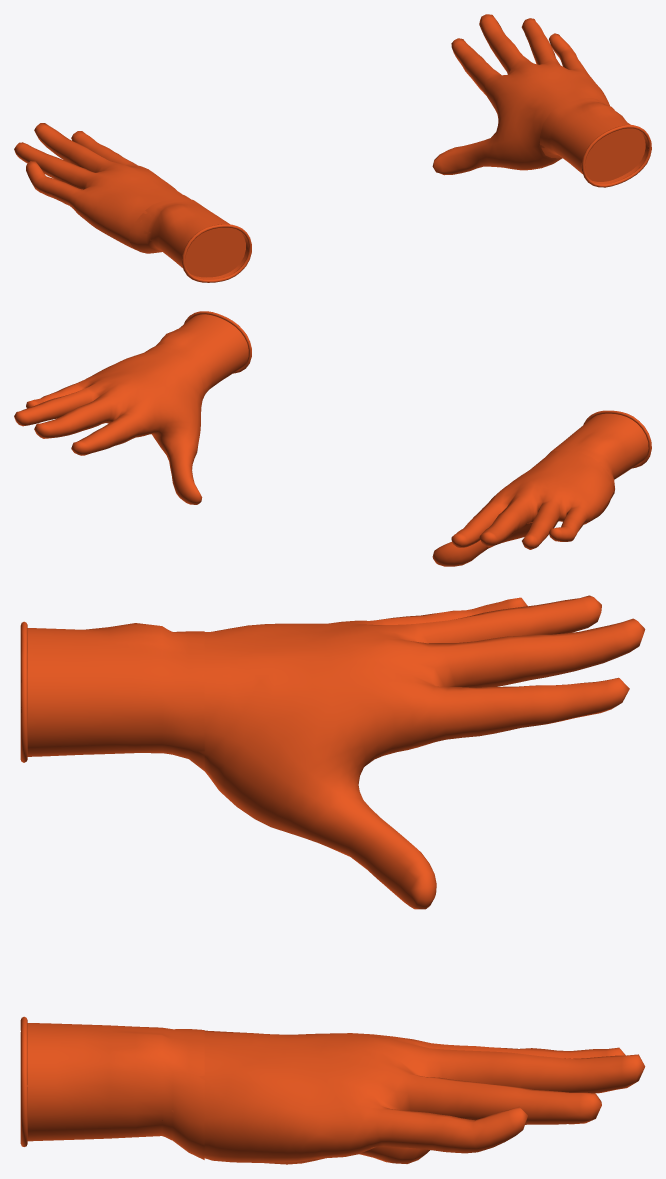
The model's file is gloves.glb.
3 views of the same model, one above another, from view 1: azimuth 30°, elevation 25°; view 2: azimuth 150°, elevation 25°; view 3: azimuth 270°, elevation 25° (orthographic). The views are drawn at different scales.
Parts seen in each view (by area): view 1: glove_right, glove_left; view 2: glove_right, glove_left; view 3: glove_left, glove_right.
Part boxes in pixels (x1,y1,x2,y2): glove_right: [432, 14, 651, 187]; glove_left: [14, 123, 251, 282]; glove_right: [14, 311, 251, 504]; glove_left: [432, 410, 651, 566]; glove_left: [20, 595, 645, 909]; glove_right: [20, 1016, 645, 1164].
Bounding box in the file's own units: 0.4716 × 0.0843 × 0.236.
